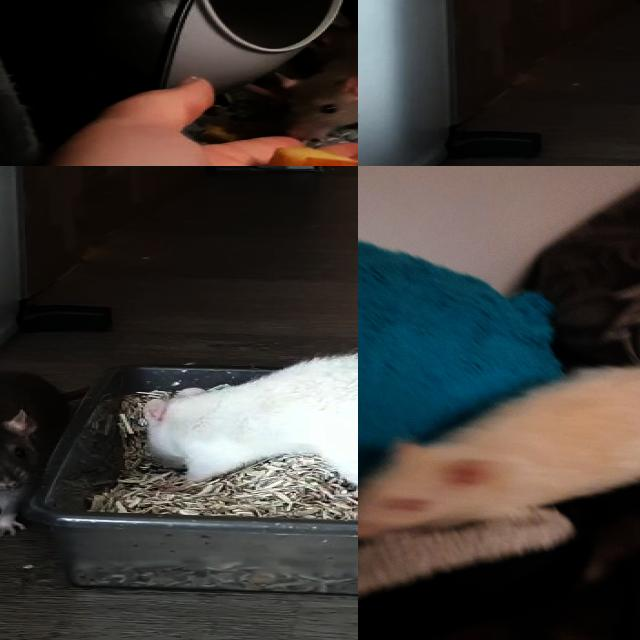rat: (358, 361, 640, 544), (130, 349, 358, 495), (272, 6, 358, 147), (0, 369, 66, 535)
